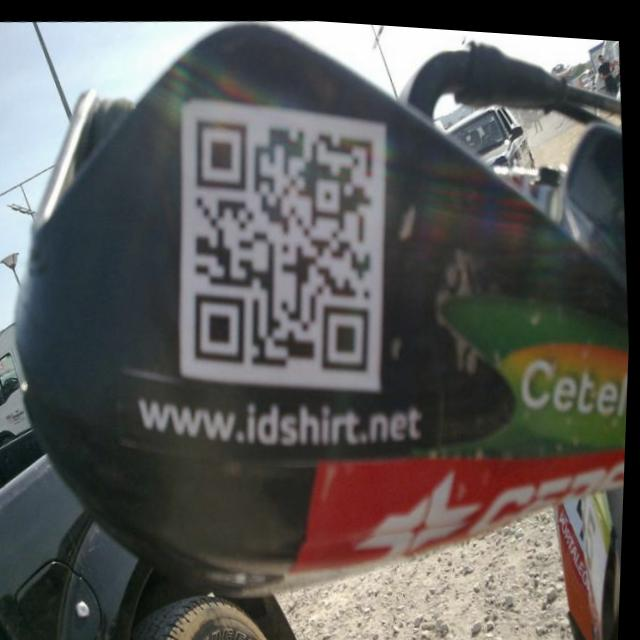qrcode: (181, 105, 390, 380)
